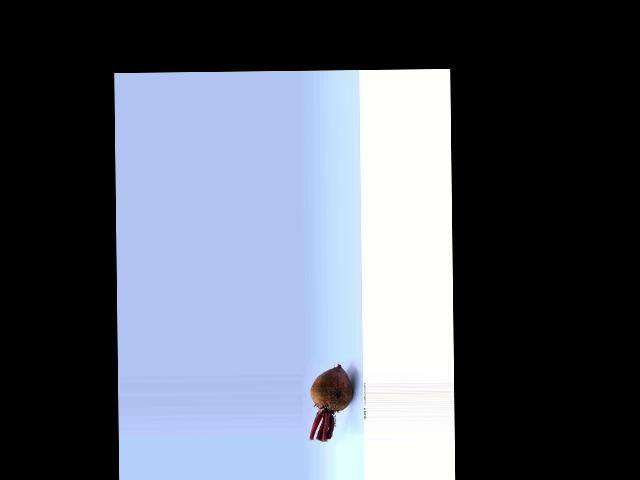beet: (309, 365, 353, 440)
